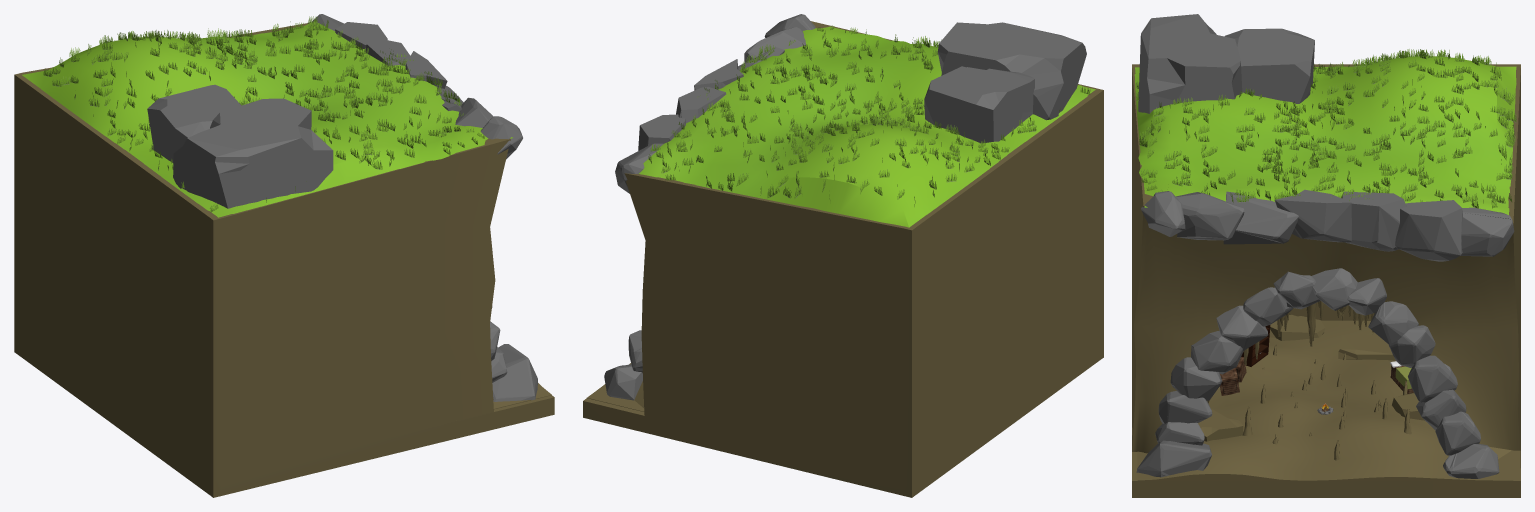
Rendered from Cave.fbx.
The picture shows the model from 3 angles, left to right: view 1: azimuth 30°, elevation 25°; view 2: azimuth 150°, elevation 25°; view 3: azimuth 270°, elevation 25°; orthographic projection. The views are drawn at different scales.
Parts seen in each view (by area): view 1: Cylinder, Plane, Cube, Cube.001, Rock, Rock.016, Rock.021, Rock.023, Rock.020, Rock.017; view 2: Cylinder, Plane, Cube, Cube.001, Rock.023, Rock.015, Rock.021, Rock.017, Rock.024, Rock.020; view 3: Cylinder, Plane, Cube, Cube.001, Rock.023, Rock.020, Rock.021, Rock.018, Rock.017, Rock.024, Rock, Rock.012 (+23 smaller).
Boxes of the visible parts, left/top/right/bottom form: Cylinder: left=14, top=23, right=554, bottom=497; Plane: left=22, top=16, right=512, bottom=217; Cube: left=173, top=98, right=333, bottom=208; Cube.001: left=147, top=84, right=241, bottom=162; Rock: left=492, top=344, right=537, bottom=401; Rock.016: left=480, top=116, right=522, bottom=159; Rock.021: left=364, top=37, right=410, bottom=65; Rock.023: left=335, top=22, right=387, bottom=49; Rock.020: left=405, top=51, right=447, bottom=88; Rock.017: left=455, top=97, right=493, bottom=127; Cylinder: left=583, top=21, right=1103, bottom=497; Plane: left=639, top=25, right=1095, bottom=227; Cube: left=937, top=22, right=1086, bottom=120; Cube.001: left=924, top=66, right=1034, bottom=143; Rock.023: left=638, top=114, right=685, bottom=150; Rock.015: left=604, top=364, right=642, bottom=400; Rock.021: left=676, top=87, right=726, bottom=123; Rock.017: left=744, top=27, right=805, bottom=62; Rock.024: left=615, top=143, right=663, bottom=193; Rock.020: left=694, top=59, right=743, bottom=90; Cylinder: left=1132, top=64, right=1520, bottom=497; Plane: left=1134, top=49, right=1516, bottom=214; Cube: left=1138, top=14, right=1242, bottom=113; Cube.001: left=1224, top=28, right=1314, bottom=103; Rock.023: left=1395, top=200, right=1462, bottom=261; Rock.020: left=1275, top=189, right=1351, bottom=242; Rock.021: left=1342, top=191, right=1406, bottom=251; Rock.018: left=1223, top=191, right=1298, bottom=244; Rock.017: left=1176, top=192, right=1244, bottom=240; Rock.024: left=1460, top=207, right=1514, bottom=256; Rock: left=1136, top=440, right=1211, bottom=477; Rock.012: left=1408, top=355, right=1457, bottom=402.
Bounding box in the file's own units: 2053 × 1931 × 2068.
8 materials, 3 textured.
